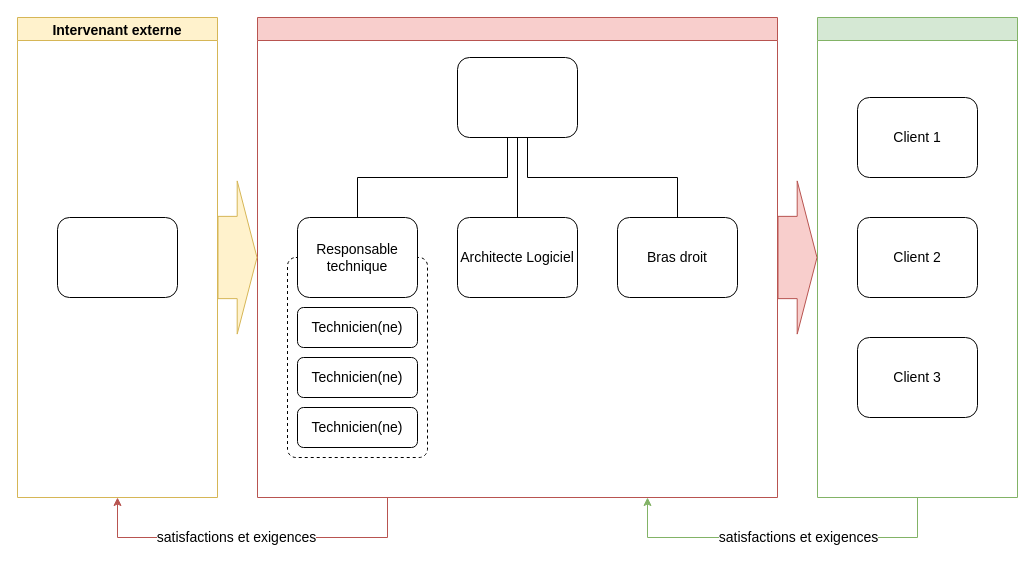
Image size: 1035x563. Some labels were removed from this diagram. The box of each missing label's shape, as (x1, y1, x2, y2) in pixels:
Cabinet IT: (56, 216, 178, 298)
Carnet clients: (816, 16, 1018, 498)
CEO: (456, 56, 578, 138)
Entreprise Rep' Aero: (256, 16, 778, 498)
